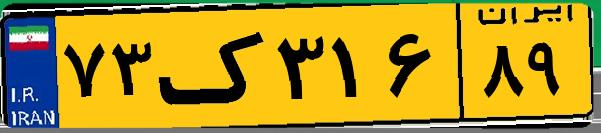1: (330, 28, 385, 110)
3: (270, 28, 330, 110), (110, 28, 158, 98)
6: (385, 28, 445, 110)
7: (57, 26, 110, 100)
8: (475, 38, 525, 113)
9: (525, 38, 570, 115)
ک: (158, 12, 270, 120)
